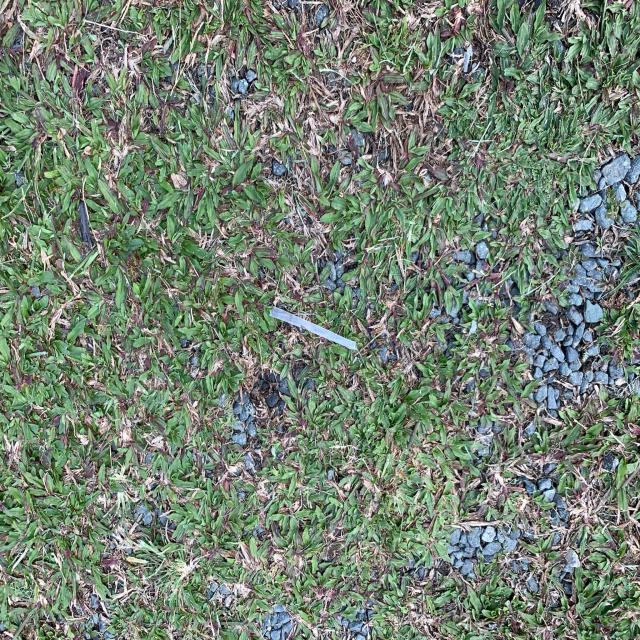litter: (267, 304, 356, 351)
